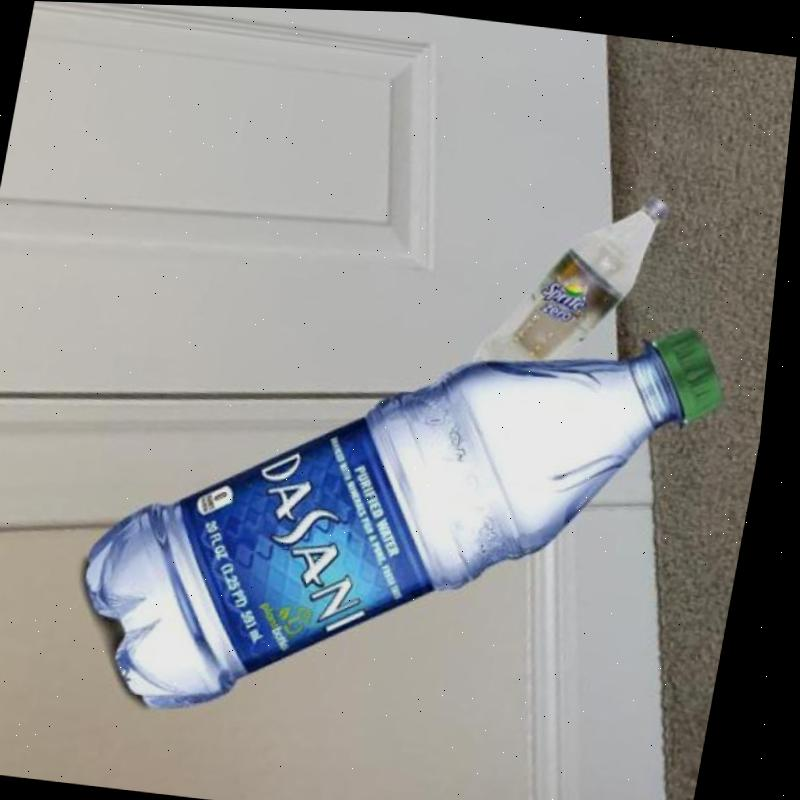botella: (64, 263, 741, 764), (472, 174, 676, 387)
